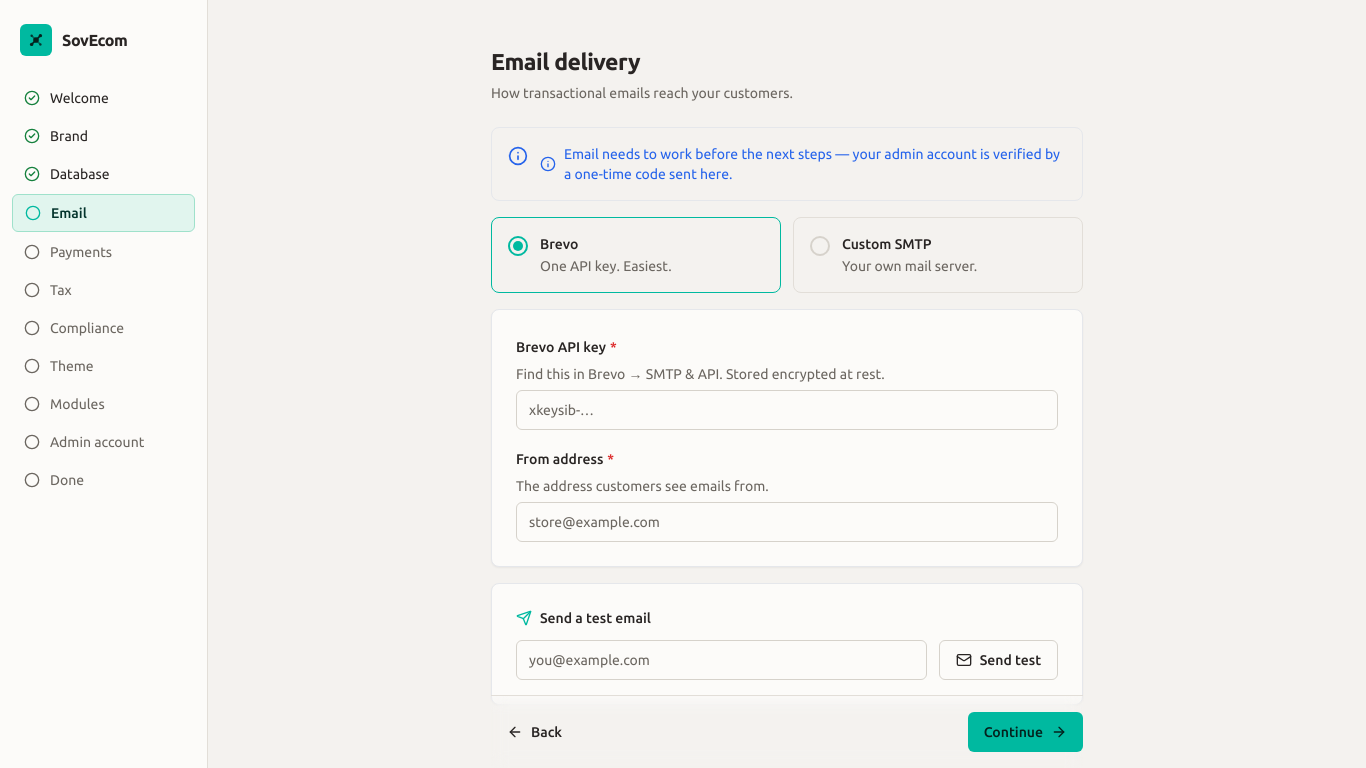
Test: EmailStep › reveals SMTP fields when Custom SMTP is chosen
The width and height of the screenshot is (1366, 768).
Expected: the heading "Email delivery" is shown, [491,49,640,74]
Click the radio button labelled "Custom SMTP Your own mail server." at (938, 255), box [793,217,1083,293]
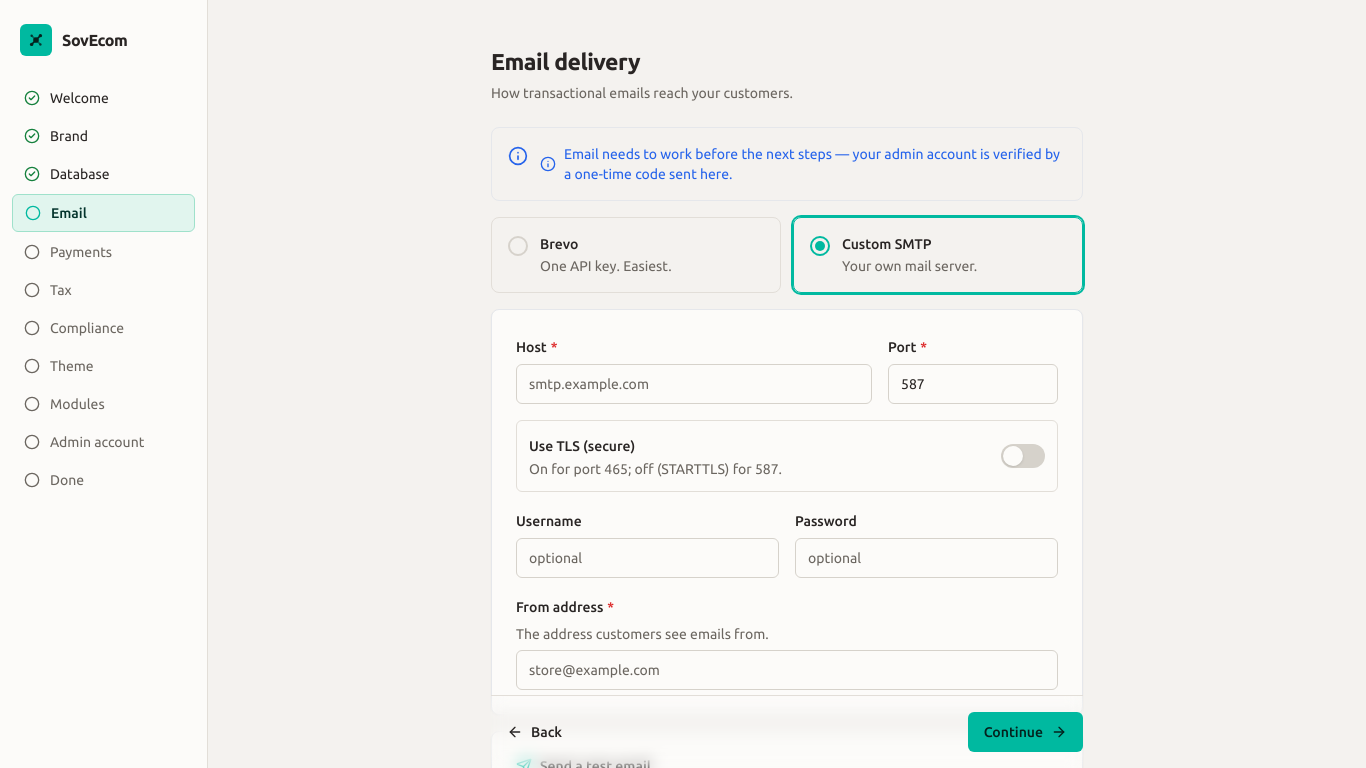
Now the field labelled "Host*" is shown, box [516,364,872,404]
Now the number field labelled "Port*" is shown, box [888,364,1058,404]
Now the switch named "secure" is shown, box [1001,444,1045,468]
